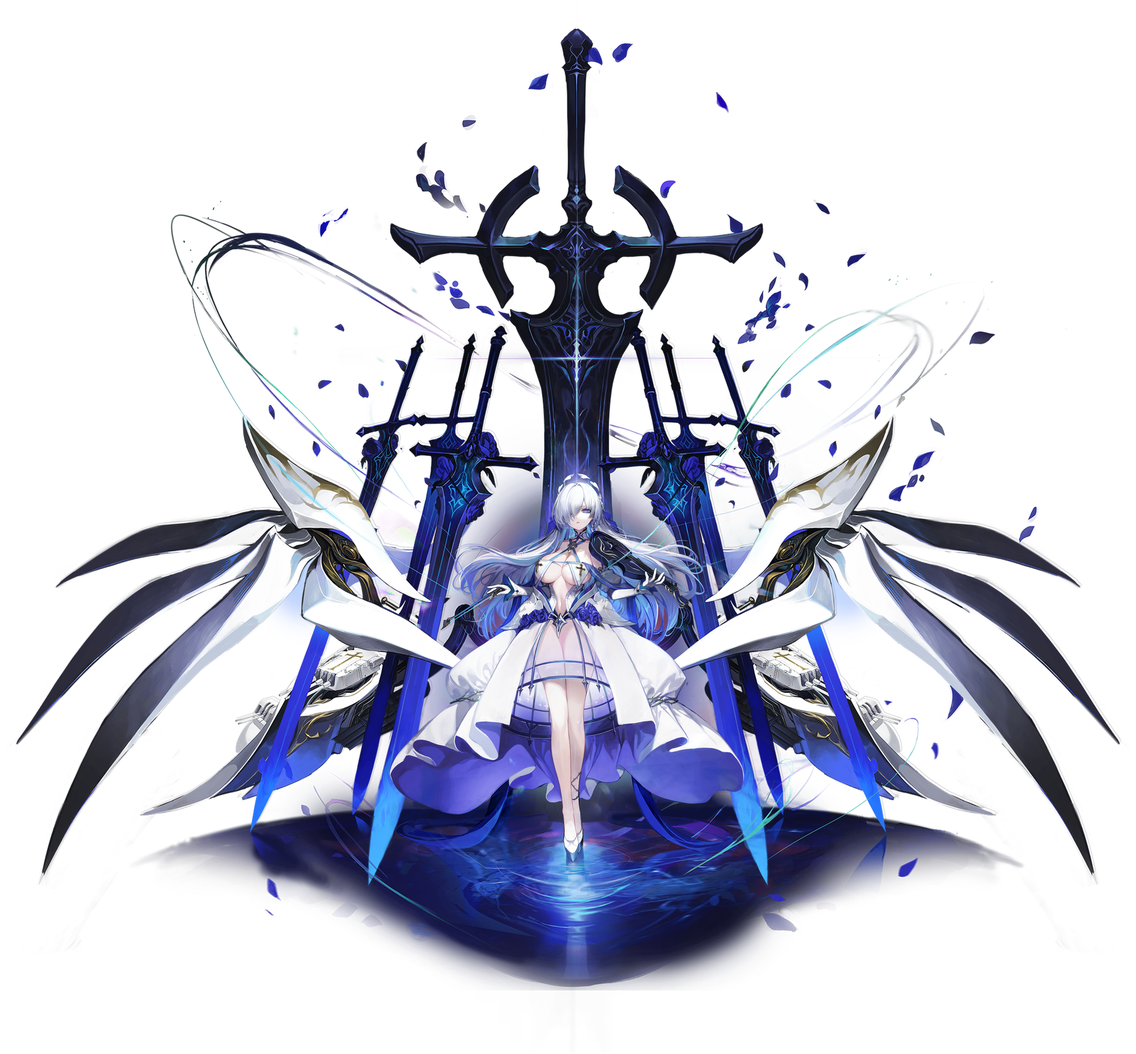person: (437, 448, 695, 891)
